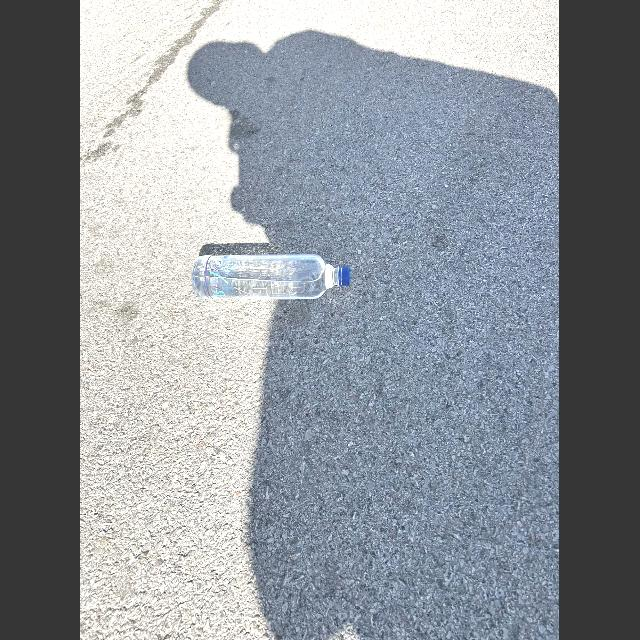trash: (174, 242, 358, 312)
